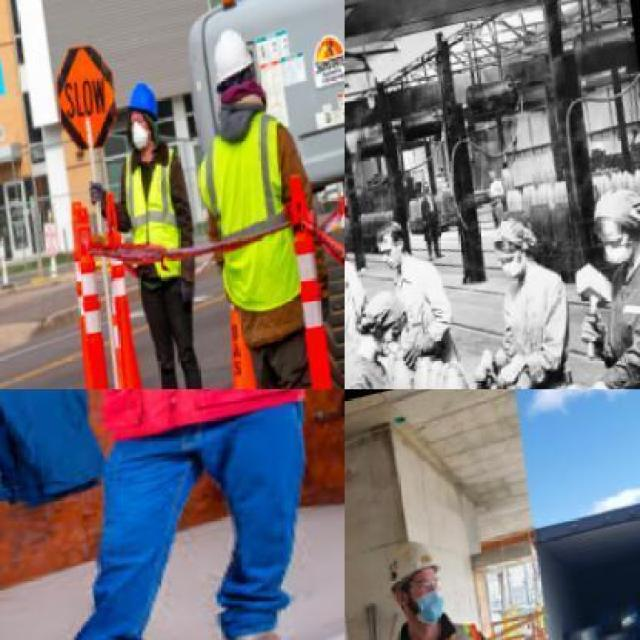Vest: (181, 108, 334, 326), (26, 389, 343, 466), (108, 138, 210, 294)
